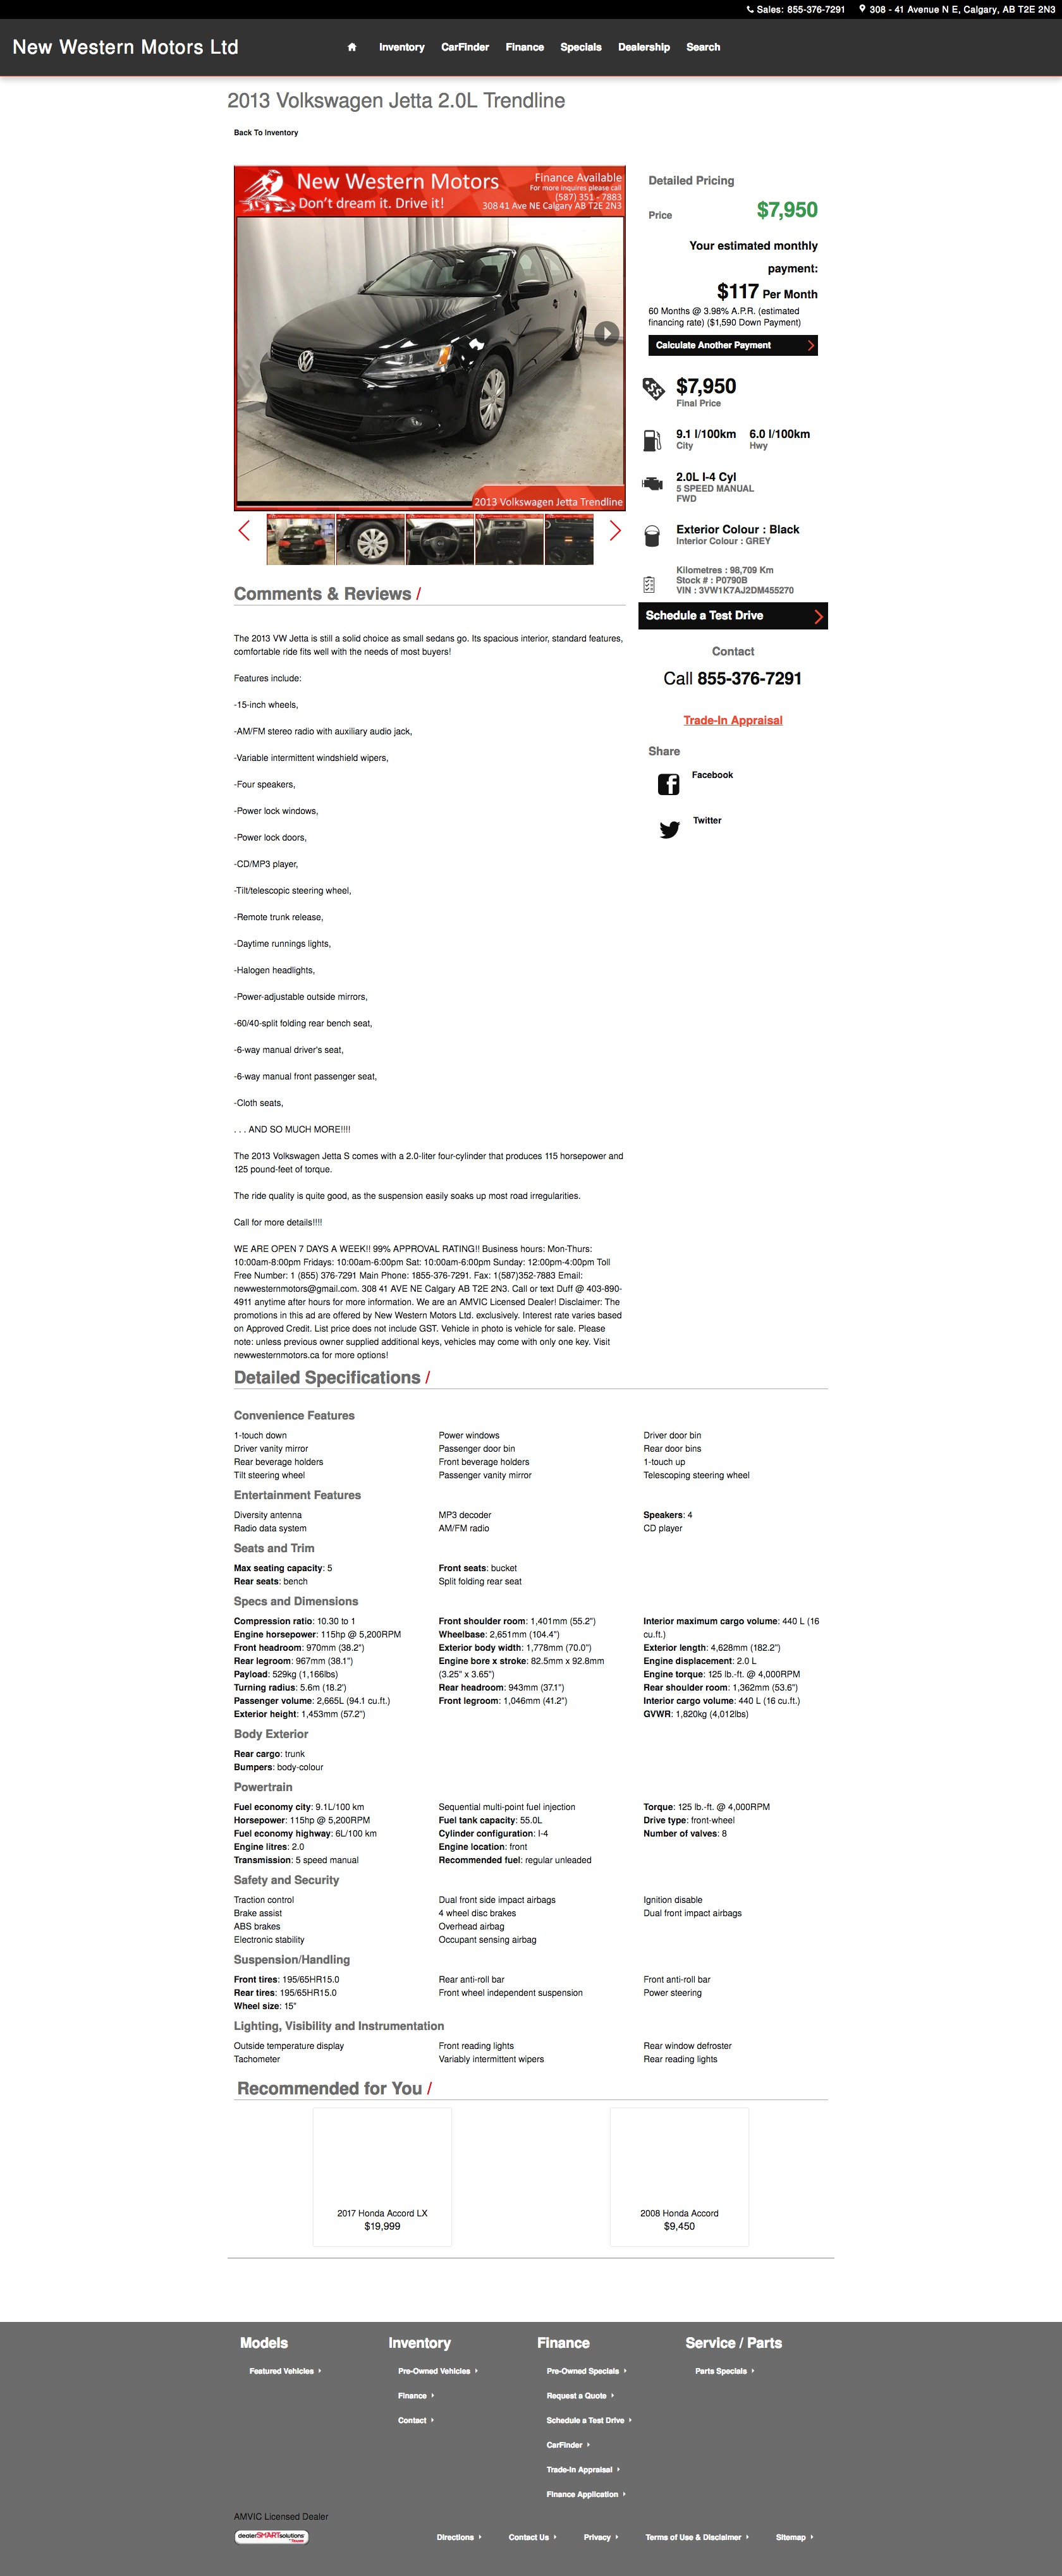car: (610, 521, 623, 542)
